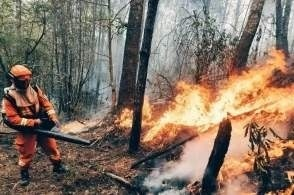fire: (132, 47, 293, 187)
